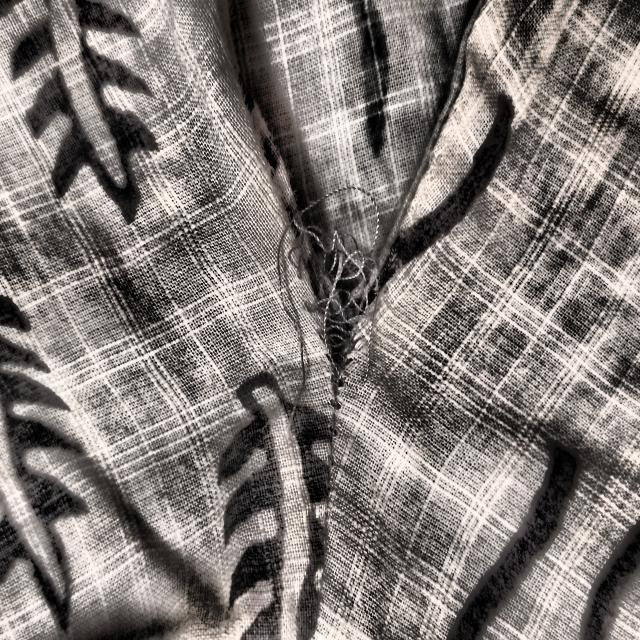Stitch: (270, 180, 402, 450)
